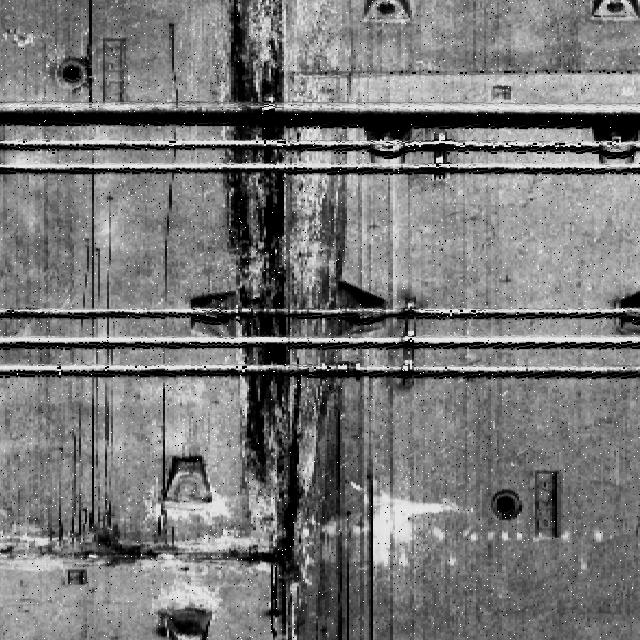leakage: (186, 3, 365, 639), (48, 174, 179, 571)
